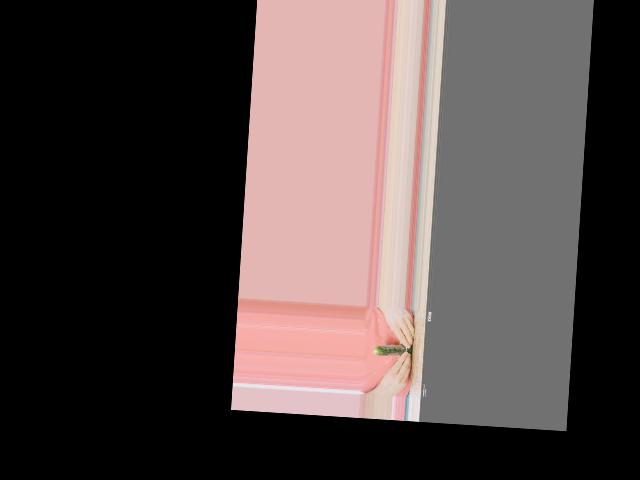cucumber: (373, 343, 412, 358)
